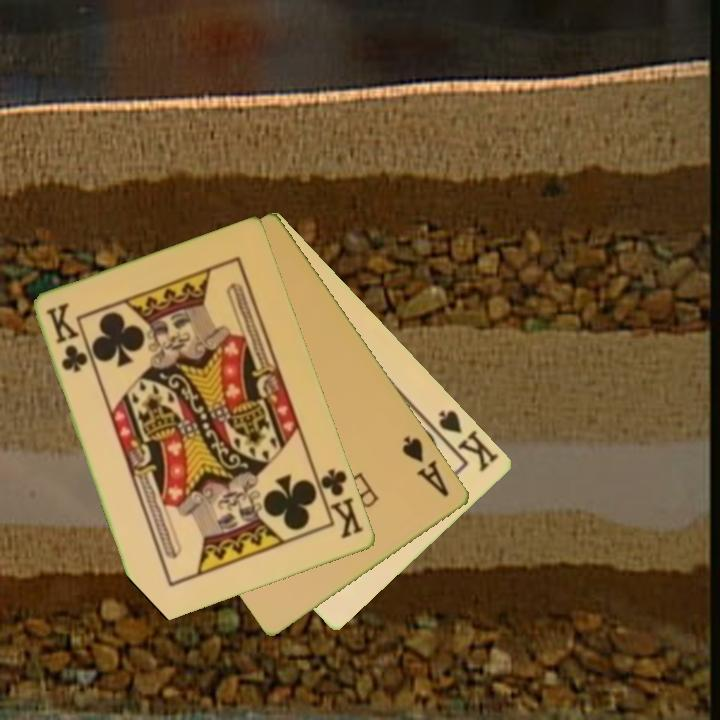As: (399, 432, 453, 500)
Kc: (312, 465, 367, 542), (42, 299, 91, 376)
Ks: (435, 406, 503, 475)
